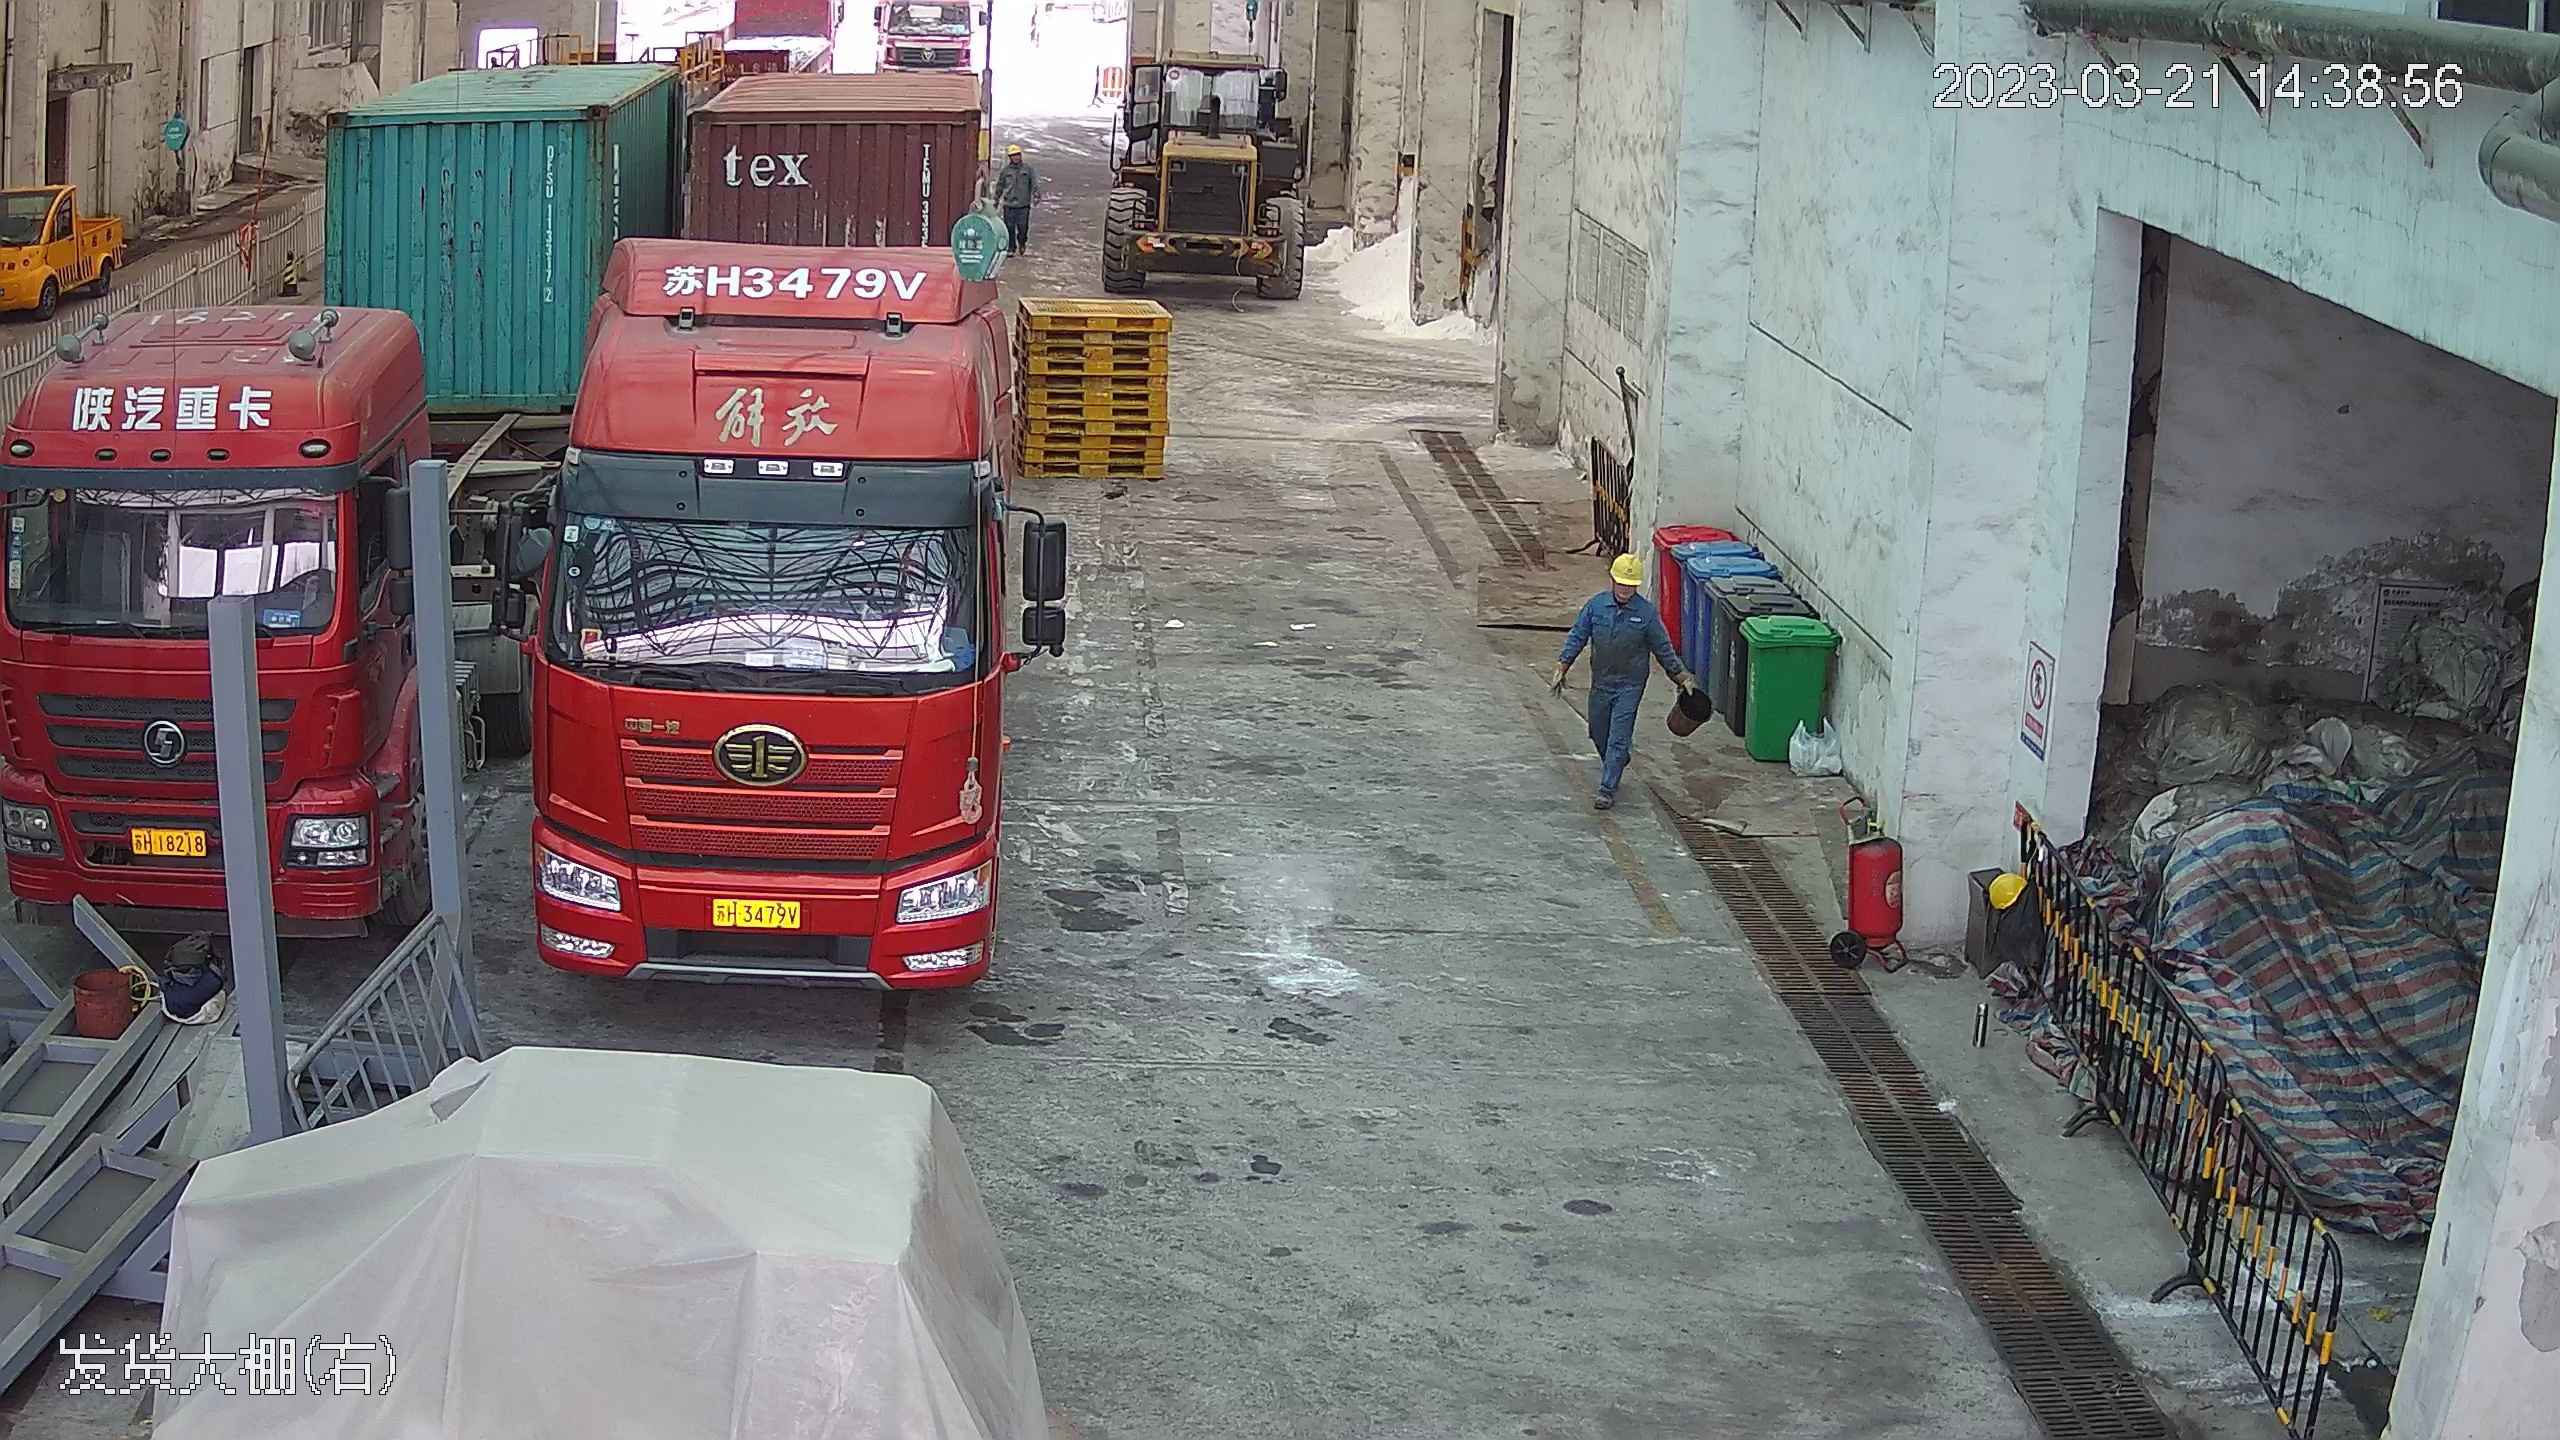head: (1575, 547, 1663, 639), (1002, 140, 1036, 180)
helmet: (1985, 865, 2027, 912), (1602, 545, 1647, 584), (1006, 138, 1031, 160)
people: (1553, 542, 1671, 814), (998, 139, 1041, 252)
truck: (506, 12, 1048, 993), (1, 21, 492, 959)
